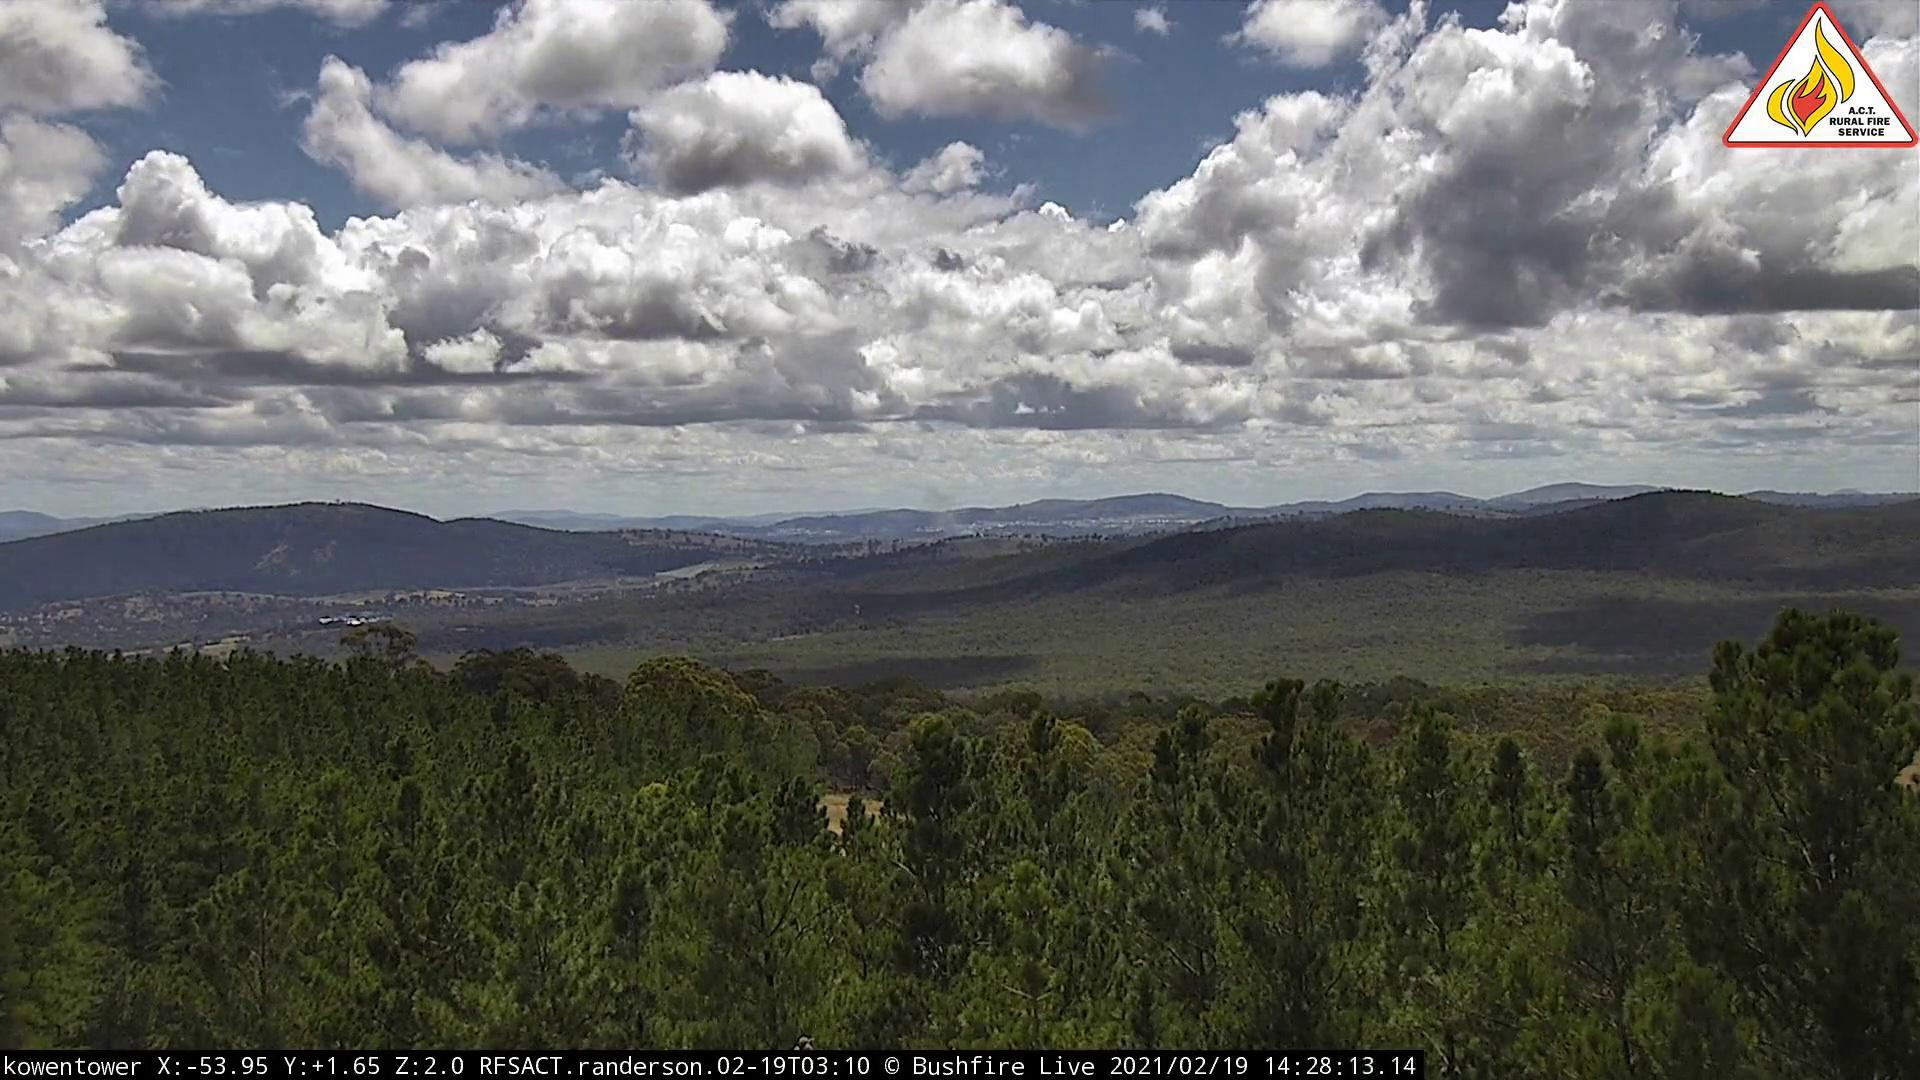Smoke: (913, 491, 990, 550)
